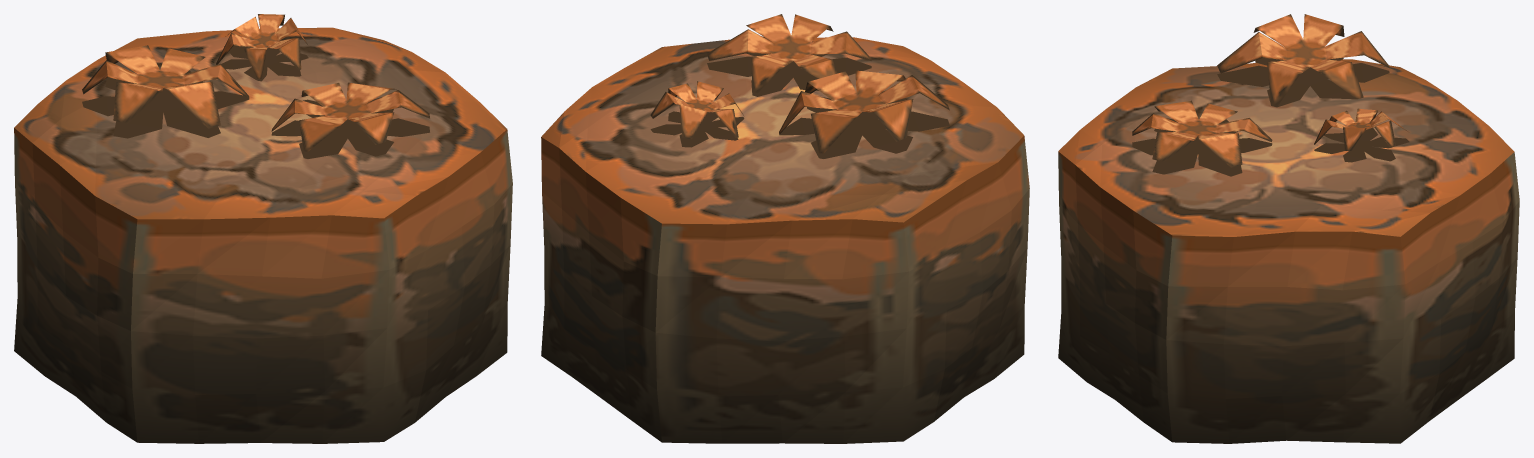
File: tile_grass.fbx
3 renders of one model, left to right at view 1: azimuth 30°, elevation 25°; view 2: azimuth 150°, elevation 25°; view 3: azimuth 270°, elevation 25°, orthographic. The views are drawn at different scales.
Visible parts, largest first — view 1: Cylinder002; view 2: Cylinder002; view 3: Cylinder002.
Boxes of the visible parts, x1,y1,x2,y2 form: Cylinder002: (14,14,512,443); Cylinder002: (541,14,1029,443); Cylinder002: (1058,14,1519,443).
Size of the model in its own units: 4.36 by 4.72 by 3.19.
Materials: 1 (1 with a texture image).
